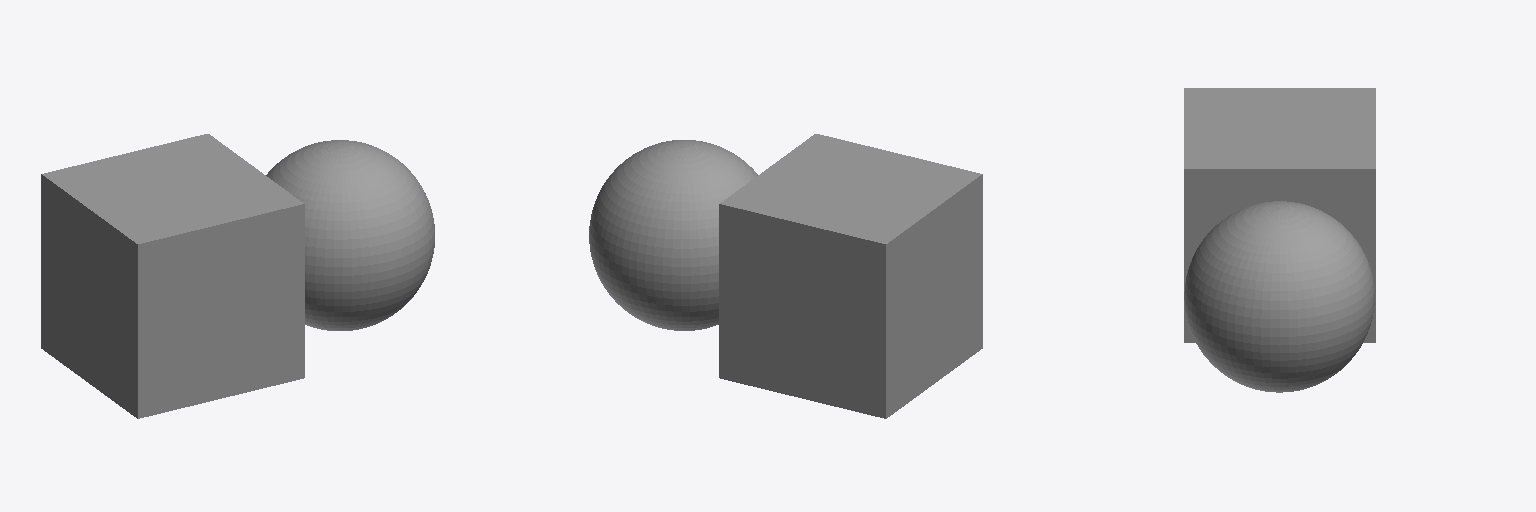
File: 2ModelTest.obj
3 renders of one model, left to right at view 1: azimuth 30°, elevation 25°; view 2: azimuth 150°, elevation 25°; view 3: azimuth 270°, elevation 25°, orthographic.
Parts seen in each view (by area): view 1: Cube, Sphere; view 2: Cube, Sphere; view 3: Sphere, Cube.
Part boxes in pixels (left/top/right/bottom): Cube: left=41, top=134, right=304, bottom=418; Sphere: left=266, top=140, right=434, bottom=330; Cube: left=719, top=134, right=982, bottom=418; Sphere: left=589, top=140, right=757, bottom=330; Sphere: left=1184, top=201, right=1374, bottom=392; Cube: left=1184, top=88, right=1375, bottom=342.
Size of the model in its own units: 3.99 by 2 by 2.